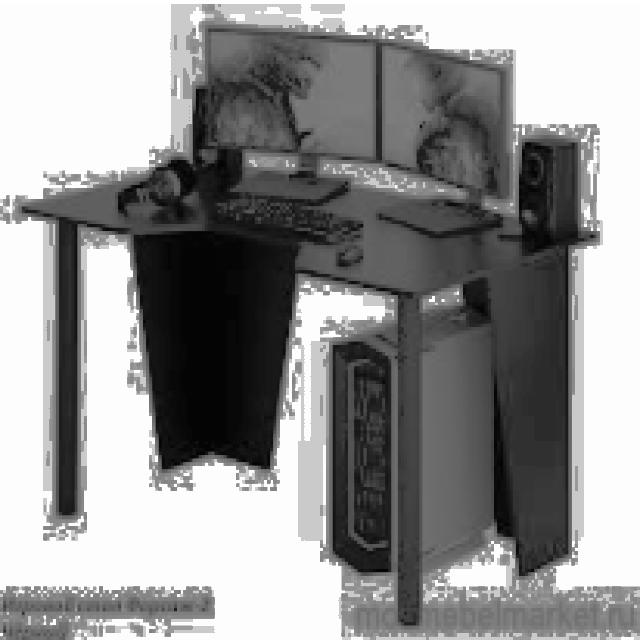table: (16, 157, 596, 622)
